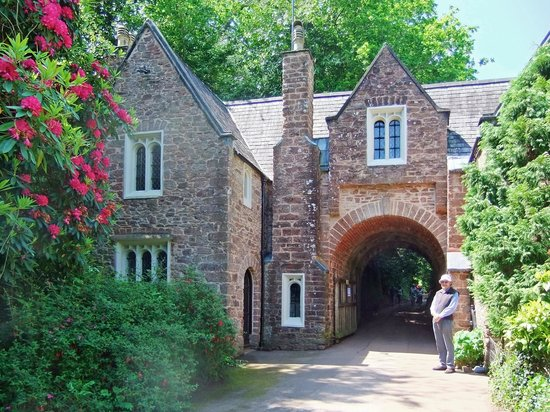bridge: (319, 178, 475, 344)
